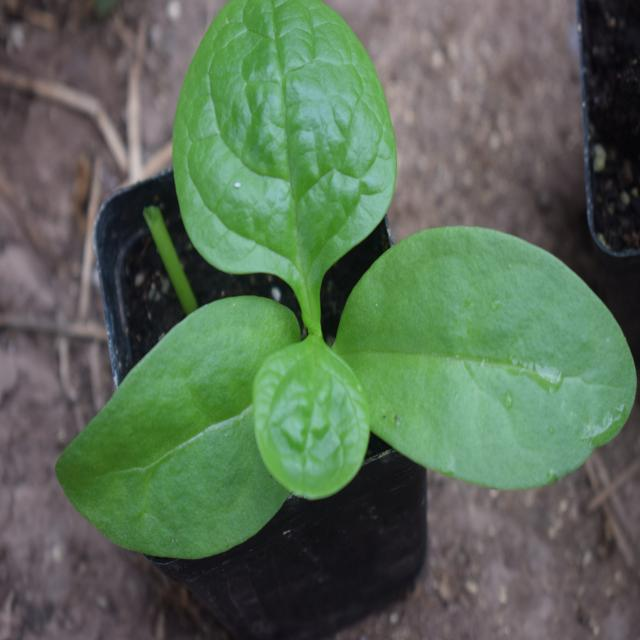Ceylon spinach: (74, 9, 616, 579)
